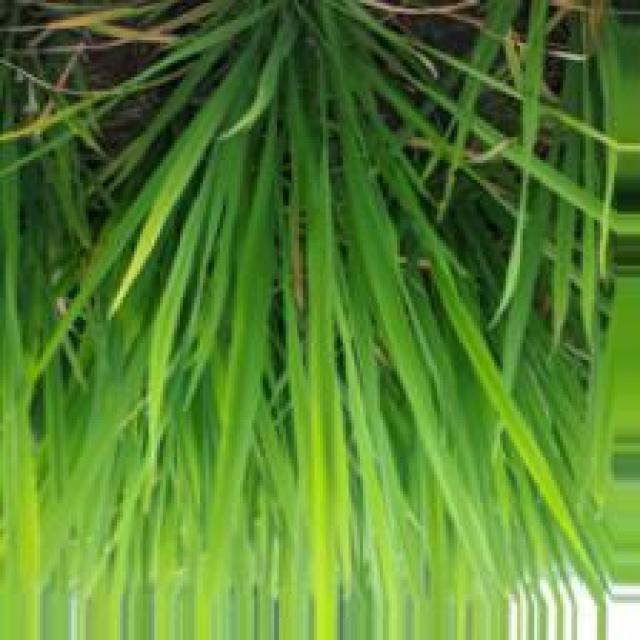HealthyLeaf: (231, 227, 270, 392), (379, 285, 417, 369)
